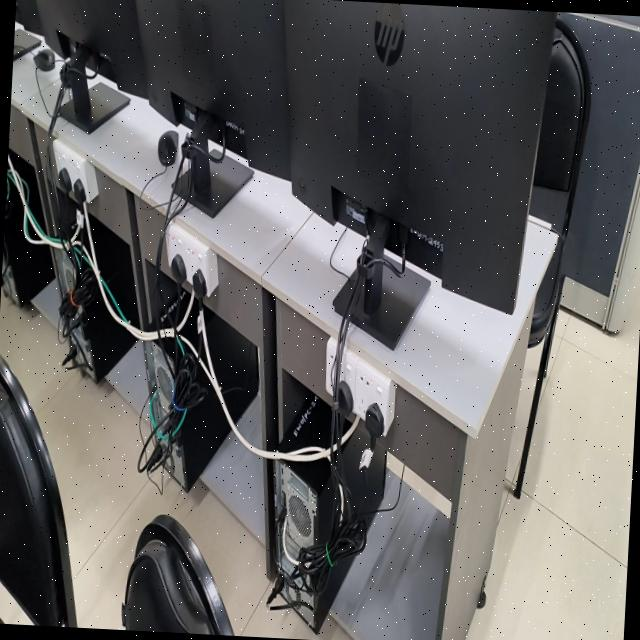Chair: (523, 20, 590, 468), (0, 355, 77, 628), (122, 515, 234, 636)
Cpu: (59, 259, 137, 383), (165, 364, 230, 492), (275, 459, 335, 571), (4, 182, 55, 306), (205, 307, 258, 422), (90, 214, 138, 325), (341, 436, 386, 524), (300, 559, 352, 632), (280, 394, 332, 450), (9, 150, 43, 223), (144, 336, 175, 415), (156, 271, 191, 332), (178, 299, 206, 362)
Monitor: (285, 0, 556, 314), (139, 0, 291, 180), (34, 0, 147, 98), (72, 76, 89, 127)
Mouse: (158, 130, 178, 166), (33, 48, 55, 71)
